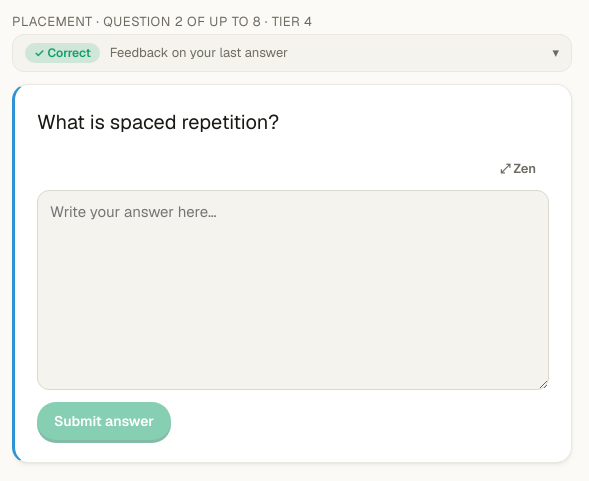
Test: Placement (interactive) › shows an in-context Checking card while grading, echoing the submitted answer
Type "review at intervals" into the text box with test id "submission-textarea" at (293, 290), box [37, 190, 549, 390]
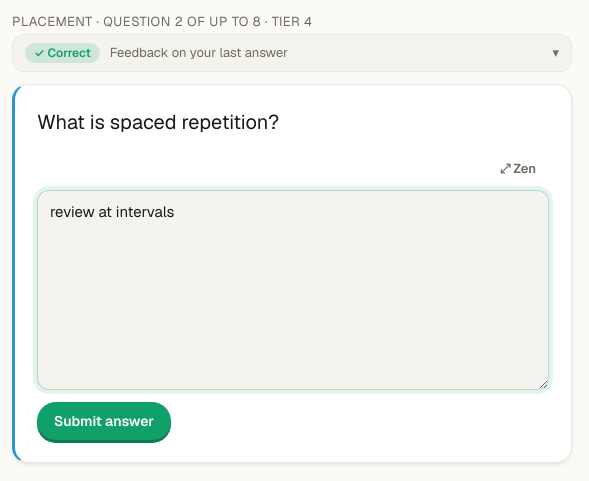
Click the button with test id "submission-submit" at (104, 420), box [37, 402, 171, 440]
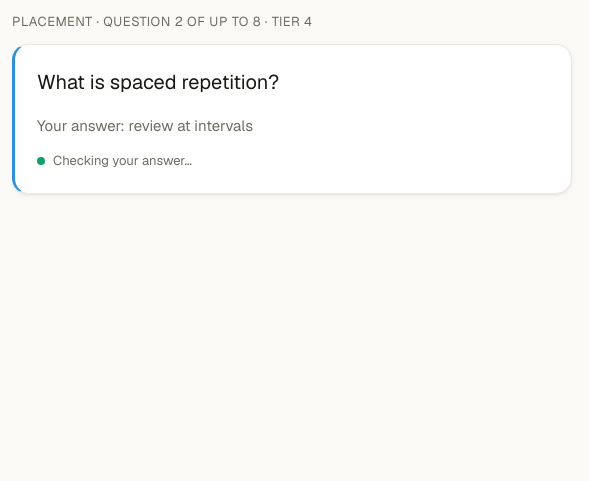
Expected: the element with test id "placement-checking" shows "Checking your answer…", [53, 152, 192, 169]
Expected: the element with test id "placement-checking" shows "review at intervals", [129, 116, 253, 134]
